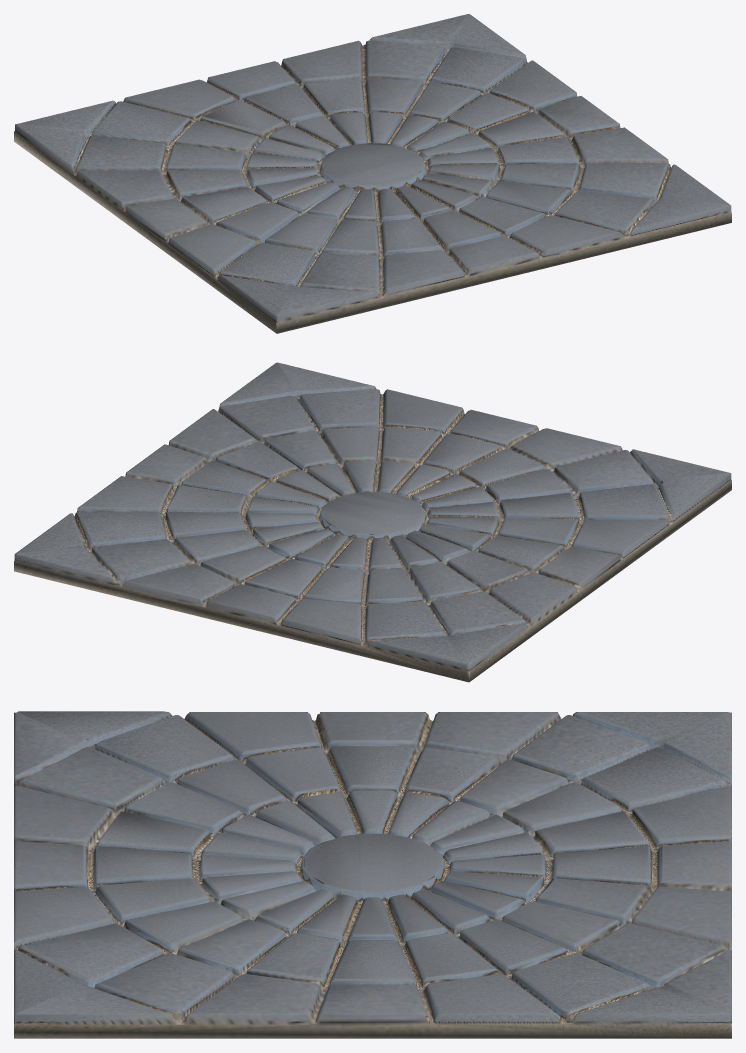
File: tripo_convert_cb6fcabe-7d9f-4159-92c1-f04ba6862091.fbx
The picture shows the model from 3 angles, top to bottom: view 1: azimuth 30°, elevation 25°; view 2: azimuth 150°, elevation 25°; view 3: azimuth 270°, elevation 25°; orthographic projection. The views are drawn at different scales.
Visible parts, largest first — view 1: tripo_node_cb6fcabe; view 2: tripo_node_cb6fcabe; view 3: tripo_node_cb6fcabe.
Boxes of the visible parts, left/top/right/bottom form: tripo_node_cb6fcabe: left=14, top=14, right=731, bottom=333; tripo_node_cb6fcabe: left=14, top=362, right=731, bottom=682; tripo_node_cb6fcabe: left=14, top=711, right=731, bottom=1038.
Bounding box in the file's own units: 0.998 × 0.0371 × 0.998.
Materials: 1 (1 with a texture image).
